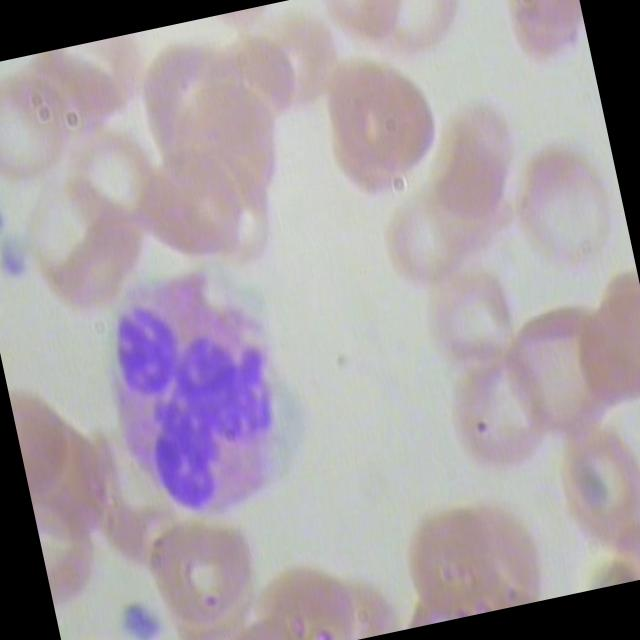Platelets: (113, 585, 164, 640), (0, 233, 39, 294), (0, 196, 13, 245)
WBC: (75, 250, 334, 536)
